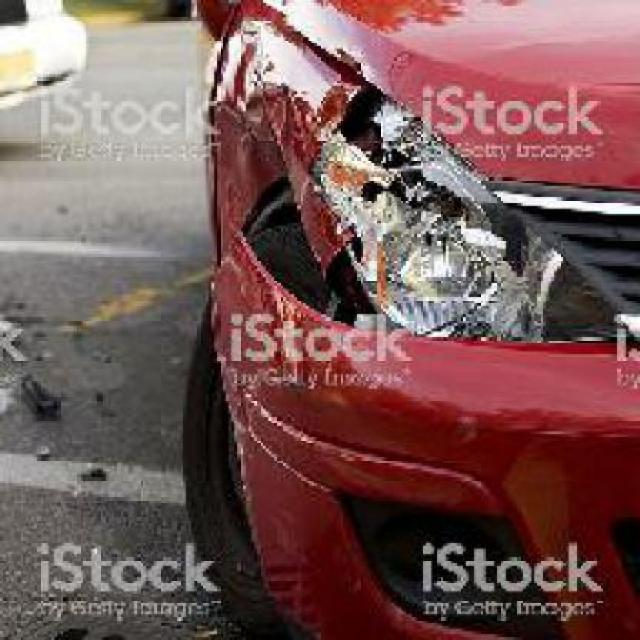damaged-head-light: (308, 77, 638, 357)
